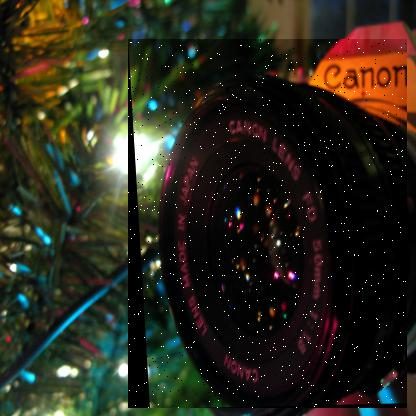Camera: (129, 40, 409, 410)
